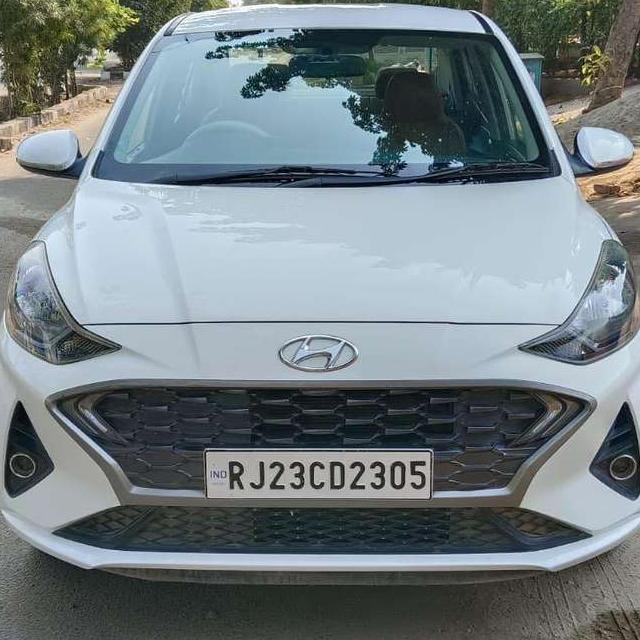Indian_Number_Plate: (200, 446, 437, 504)
